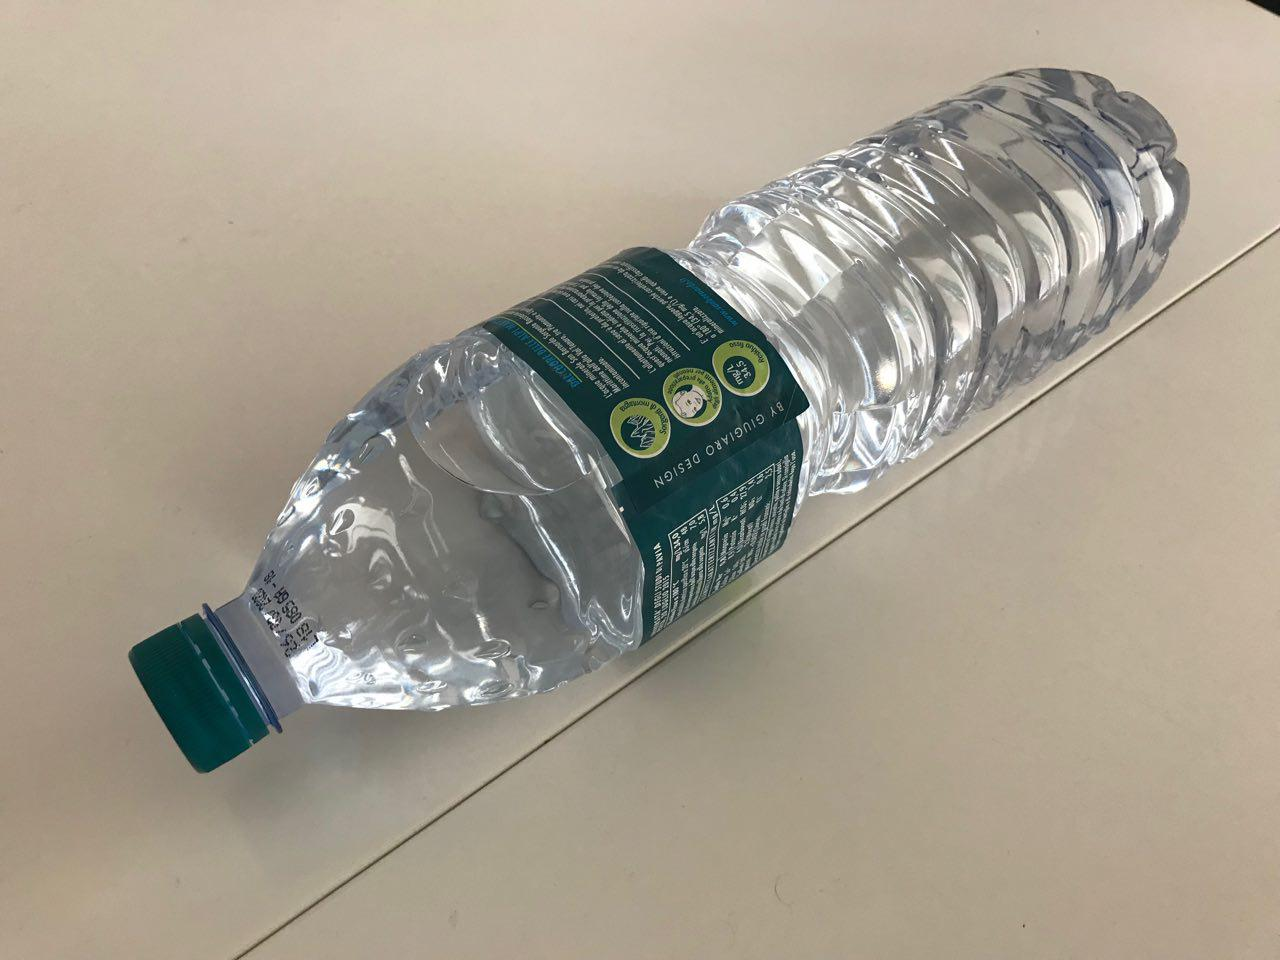san_bernardo: (126, 66, 1191, 777)
